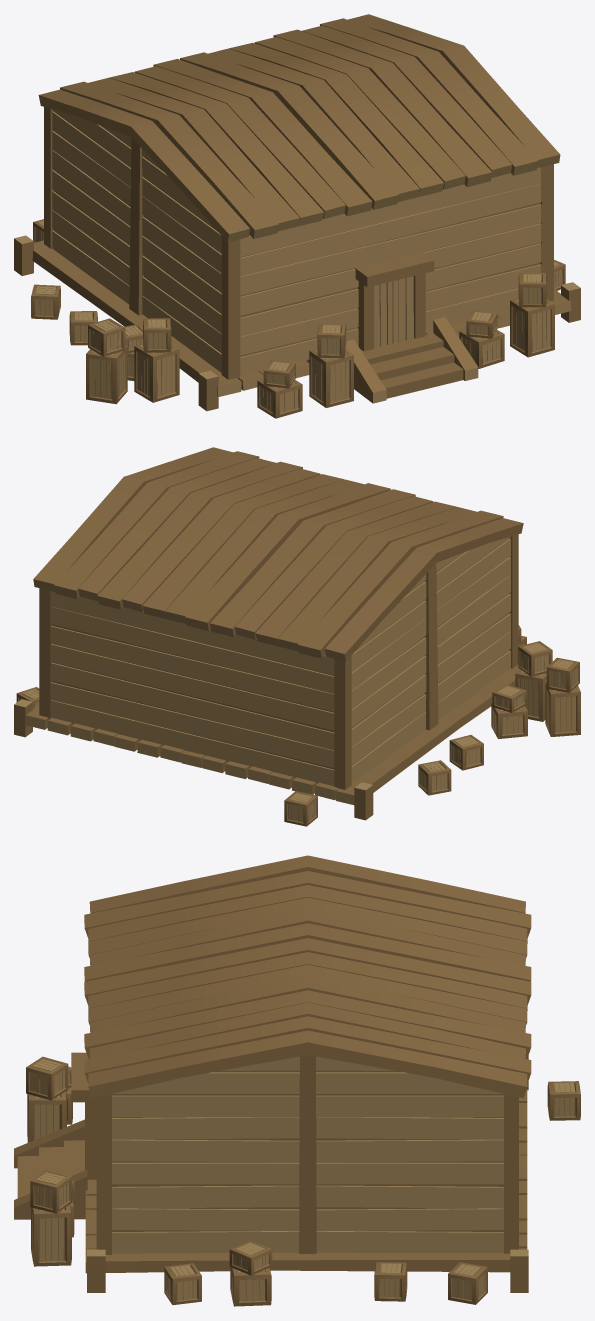
The model's file is Storage_FirstAge_Leve3.glb.
The picture shows the model from 3 angles, top to bottom: view 1: azimuth 30°, elevation 25°; view 2: azimuth 150°, elevation 25°; view 3: azimuth 270°, elevation 25°; orthographic projection. The views are drawn at different scales.
Parts seen in each view (by area): view 1: Storage_FirstAge_Leve3; view 2: Storage_FirstAge_Leve3; view 3: Storage_FirstAge_Leve3.
Part boxes in pixels (x1,y1,x2,y2): Storage_FirstAge_Leve3: [14, 14, 580, 418]; Storage_FirstAge_Leve3: [14, 447, 580, 826]; Storage_FirstAge_Leve3: [14, 855, 580, 1306].
Bounding box in the file's own units: 1.79 × 0.7613 × 1.62.
